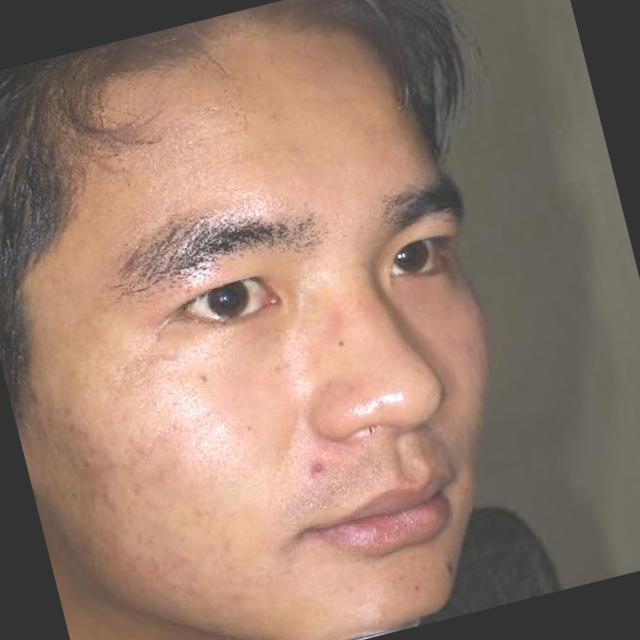blackhead: (328, 327, 355, 356)
nodules: (297, 451, 332, 486)
